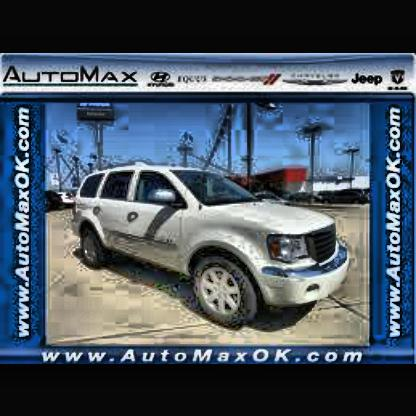Chrysler Aspen SUV 2009: (76, 164, 350, 327)
